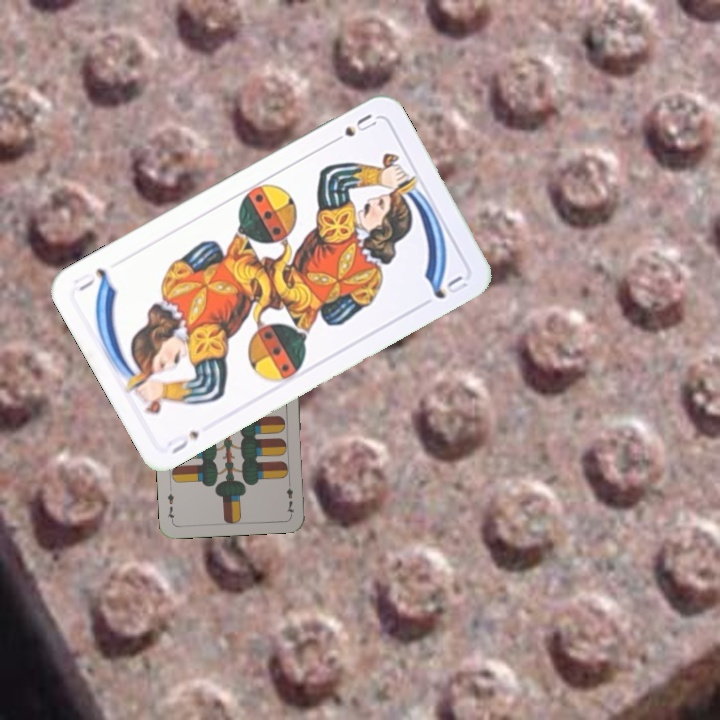E7: (283, 476, 297, 516)
SU: (325, 109, 380, 148), (163, 426, 202, 458)
